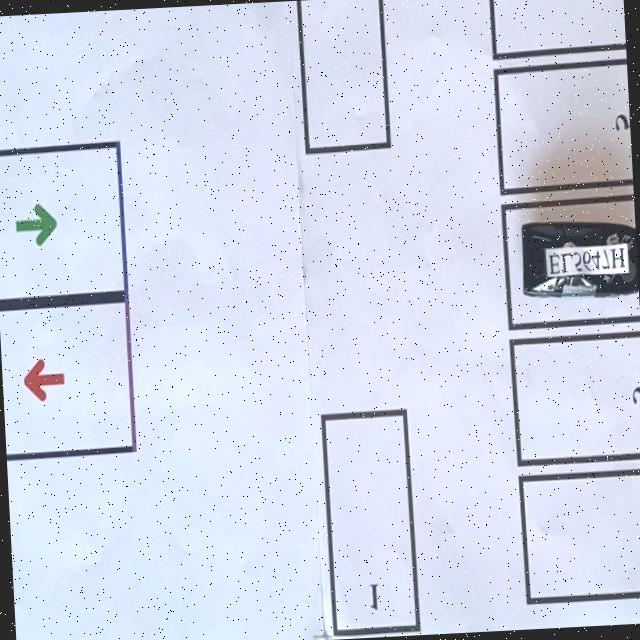car: (518, 216, 639, 306)
